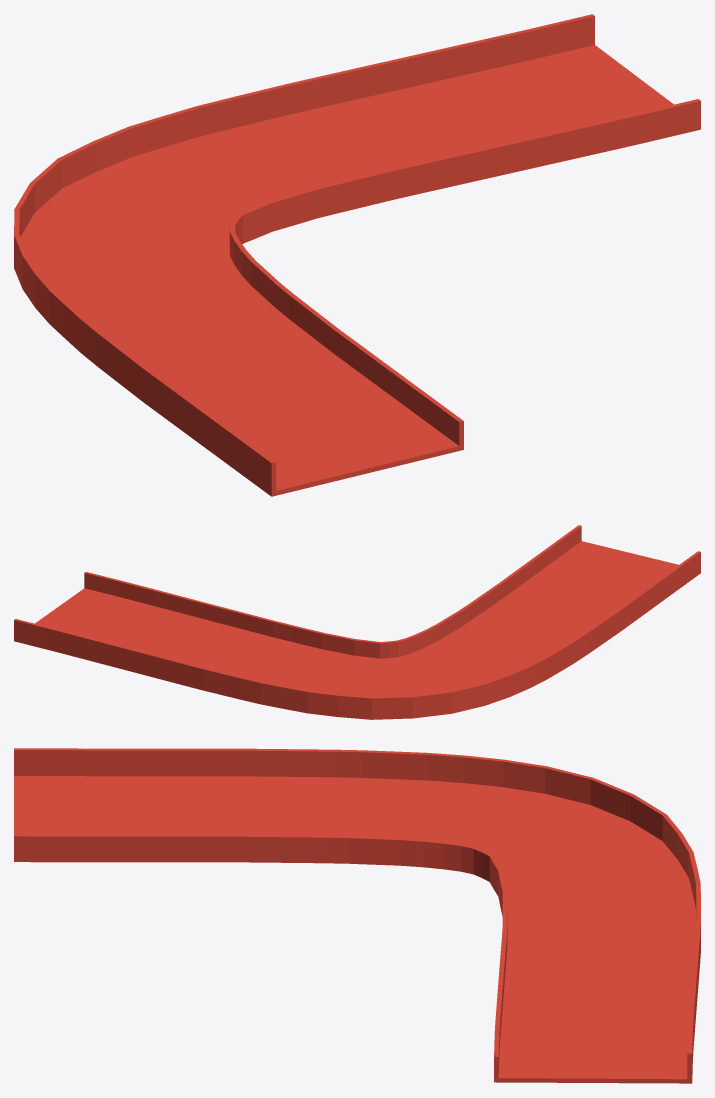
Rendered from curveRED.fbx.
3 renders of one model, top to bottom at view 1: azimuth 30°, elevation 25°; view 2: azimuth 150°, elevation 25°; view 3: azimuth 270°, elevation 25°, orthographic. The views are drawn at different scales.
Visible parts, largest first — view 1: Cube; view 2: Cube; view 3: Cube.
Part boxes in pixels (bbox=[...]): Cube: bbox=[14, 14, 700, 496]; Cube: bbox=[14, 525, 700, 719]; Cube: bbox=[14, 748, 700, 1083].
Bounding box in the file's own units: 2678 × 123 × 2547.
